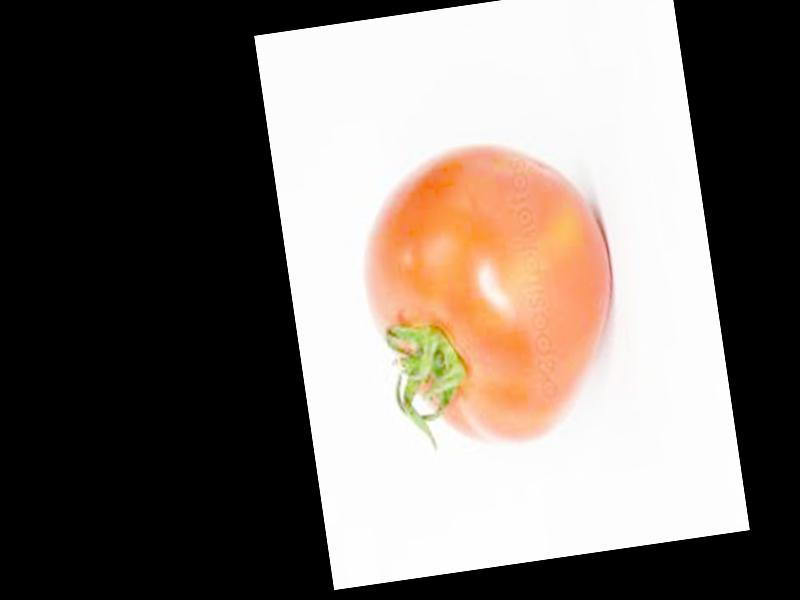Tomato: (344, 129, 632, 461)
